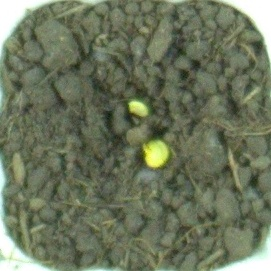pepper seed: (53, 54, 225, 223), (51, 39, 202, 158)
